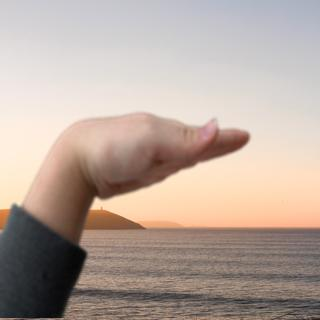Wait: (48, 99, 253, 204)
